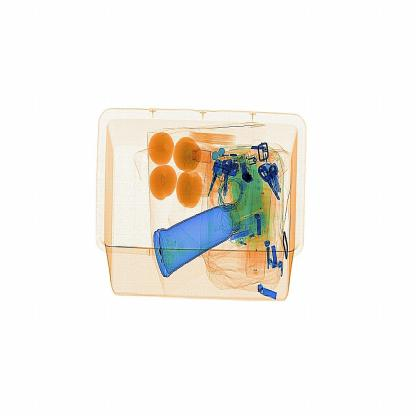knife: (241, 164, 261, 190)
